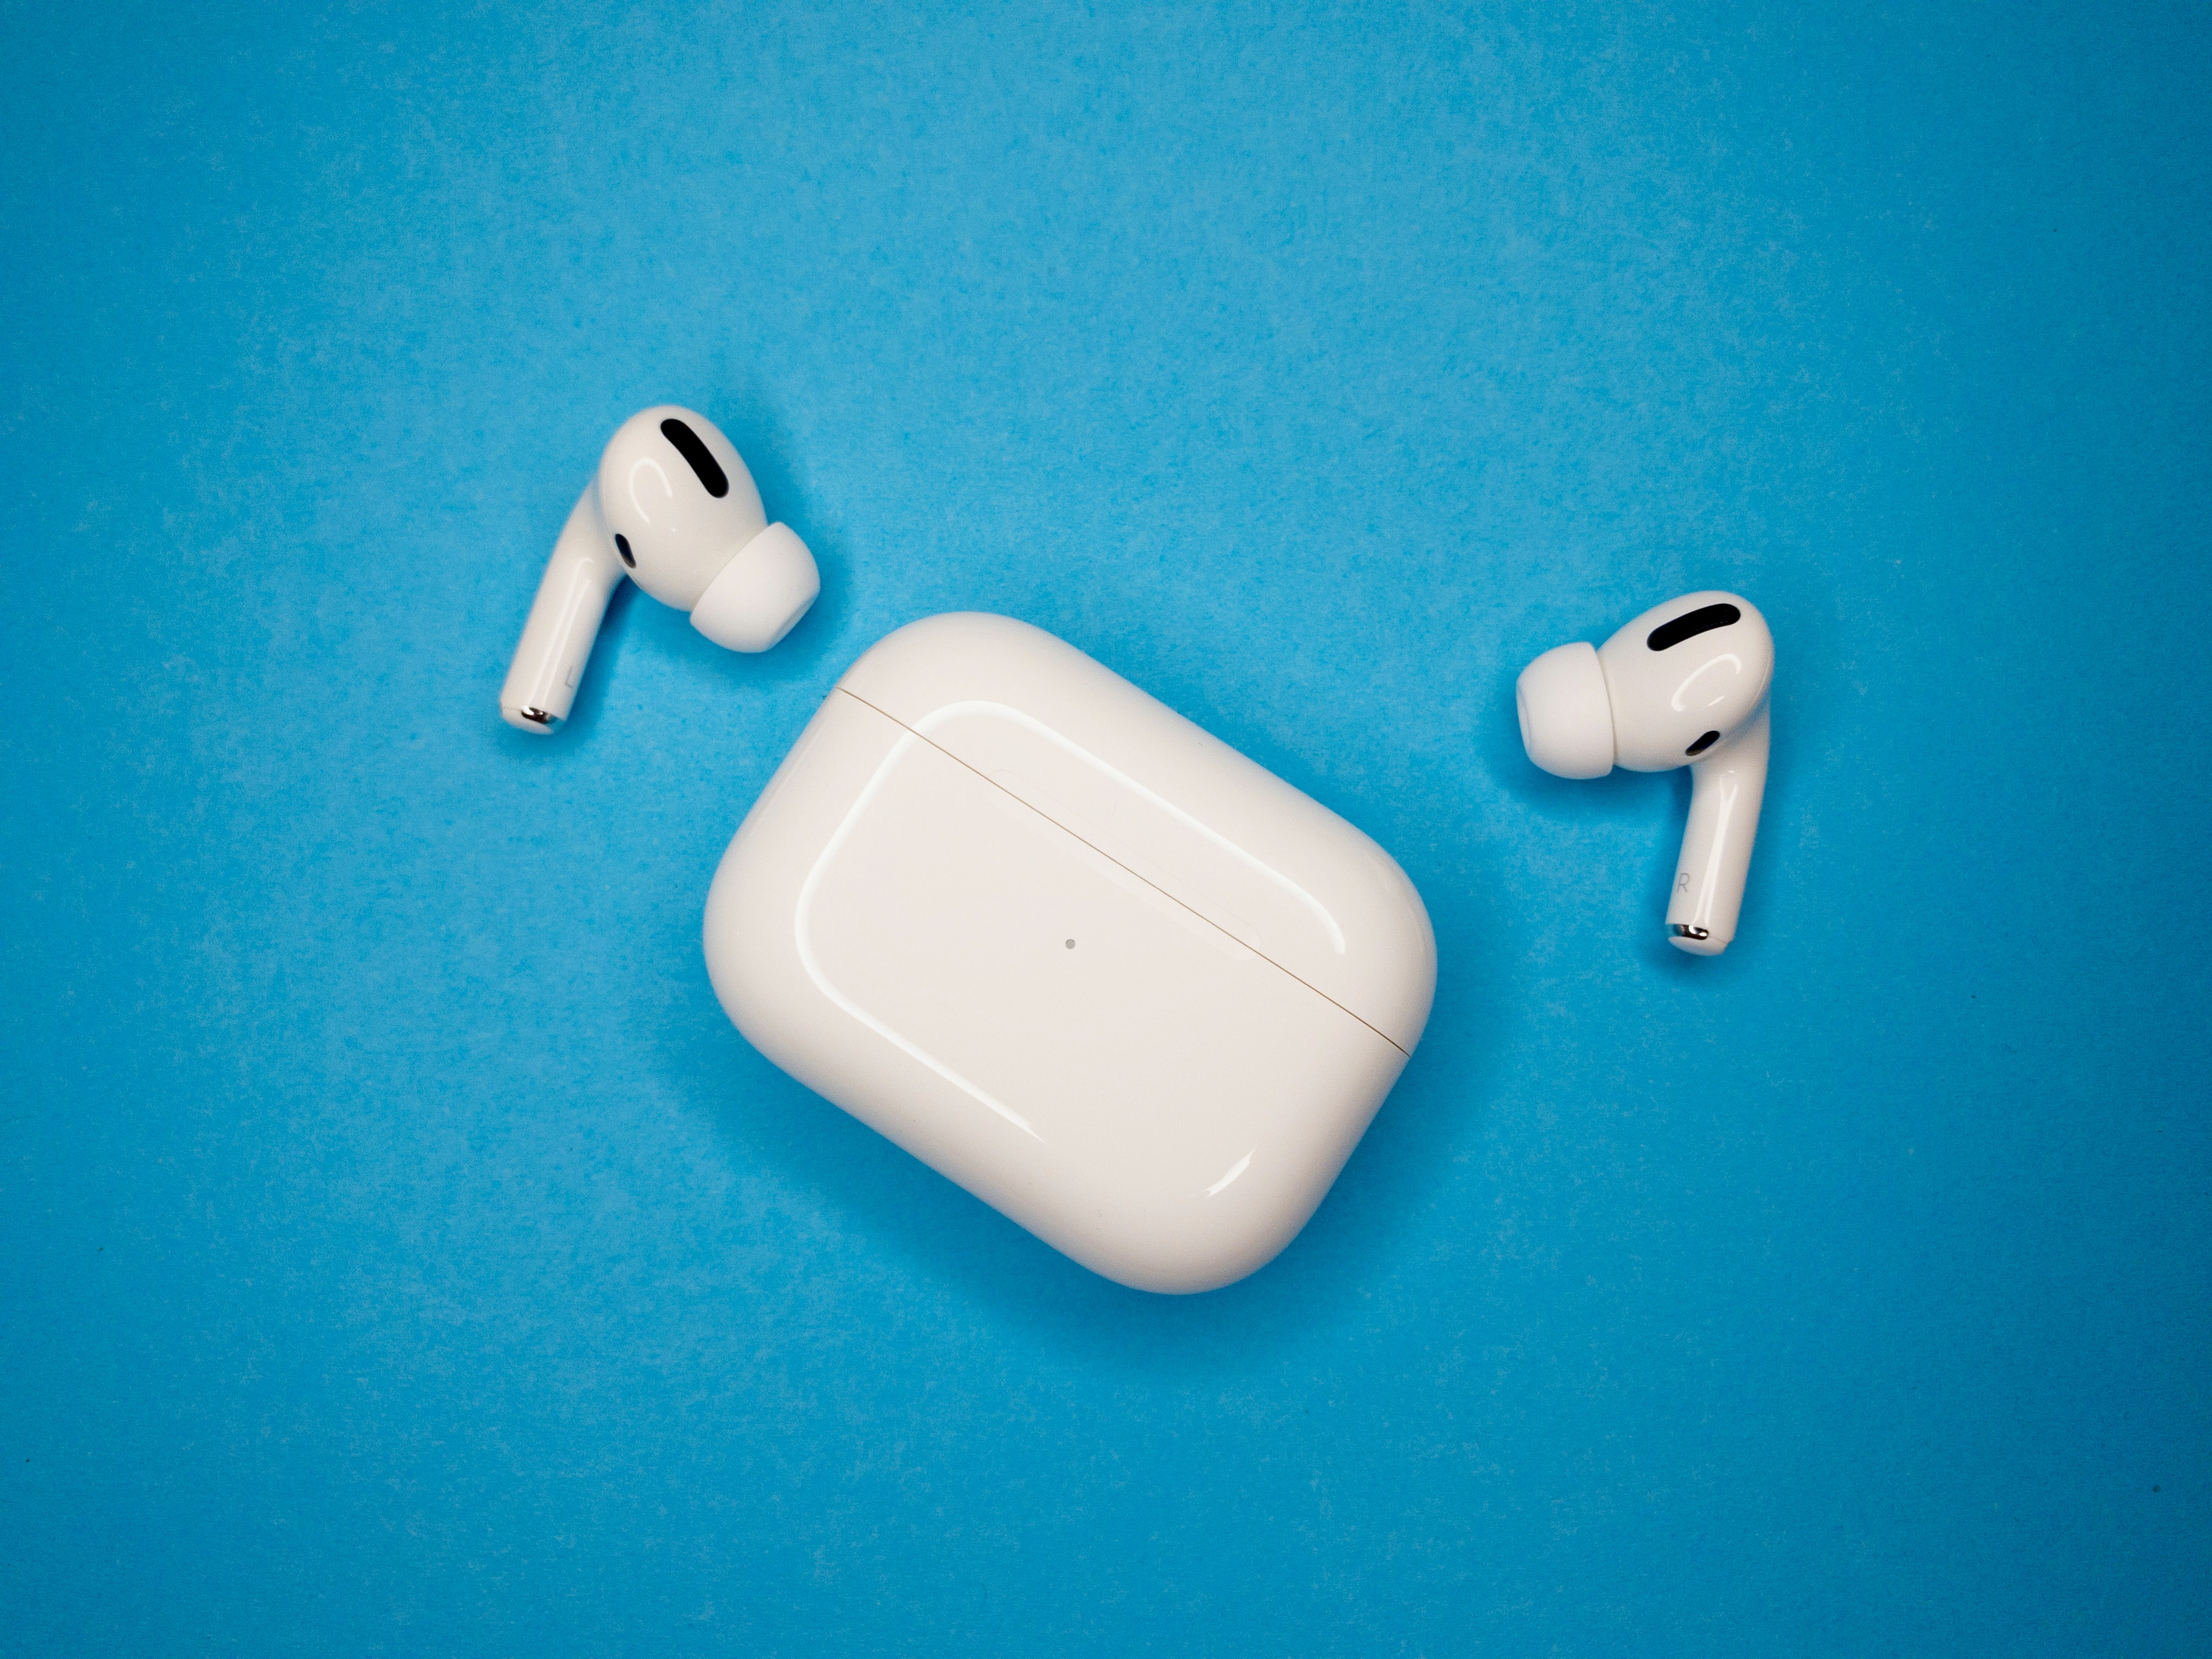airpods: (695, 605, 1449, 1309)
